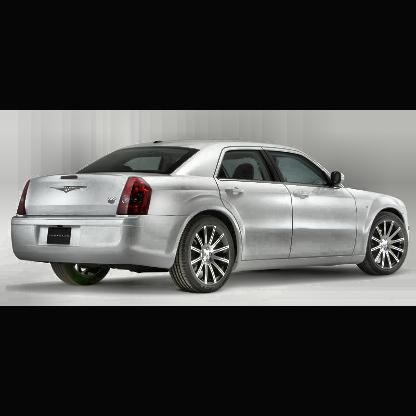Chrysler 300 SRT-8 2010: (9, 133, 414, 300)
